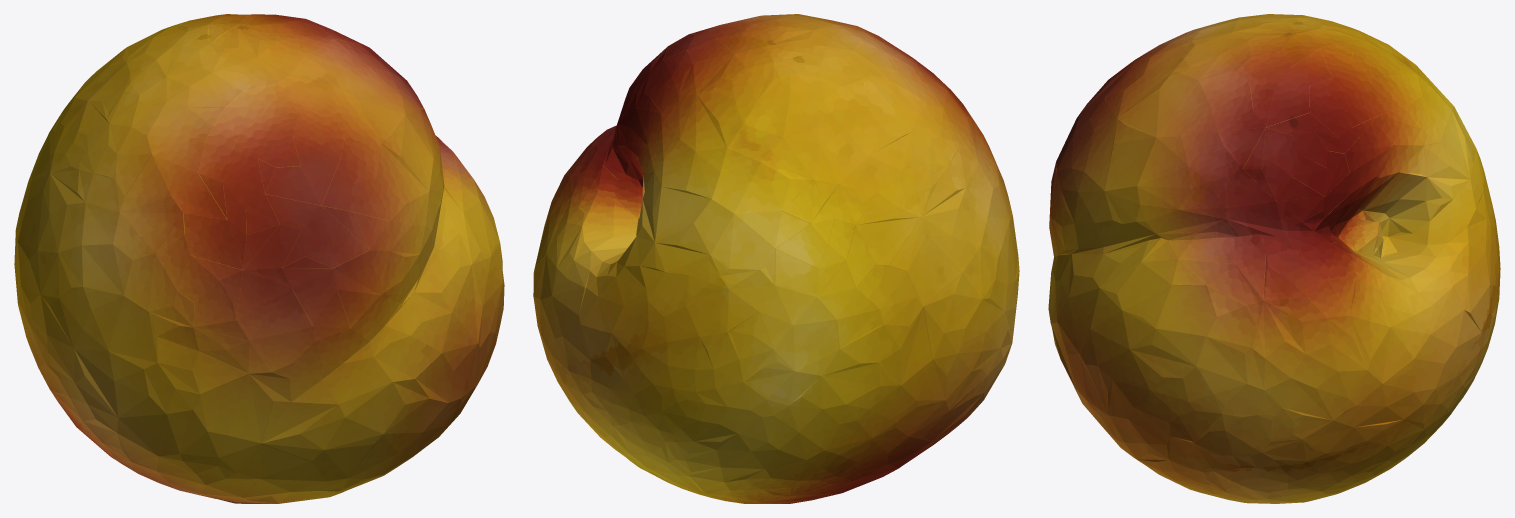
Rendered from ycb_peach_metric_fp.obj.
3 renders of one model, left to right at view 1: azimuth 30°, elevation 25°; view 2: azimuth 150°, elevation 25°; view 3: azimuth 270°, elevation 25°, orthographic. The views are drawn at different scales.
Bounding box in the file's own units: 0.0621 × 0.0627 × 0.0587.
Materials: 1 (1 with a texture image).
